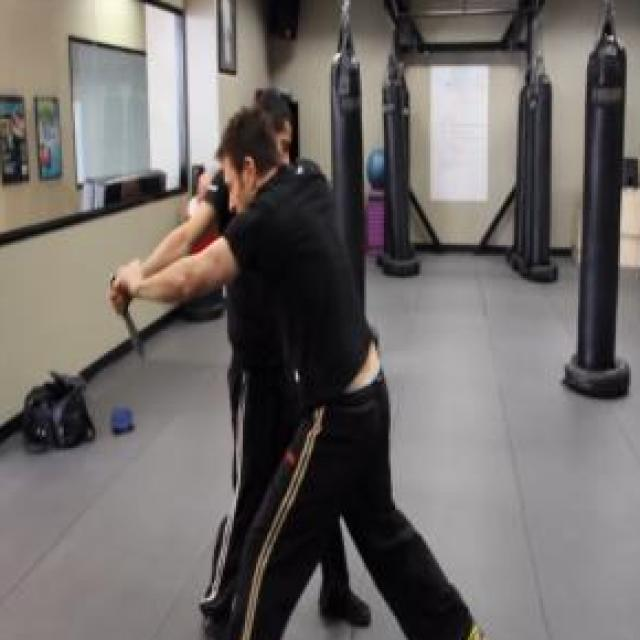knife: (106, 271, 148, 363)
